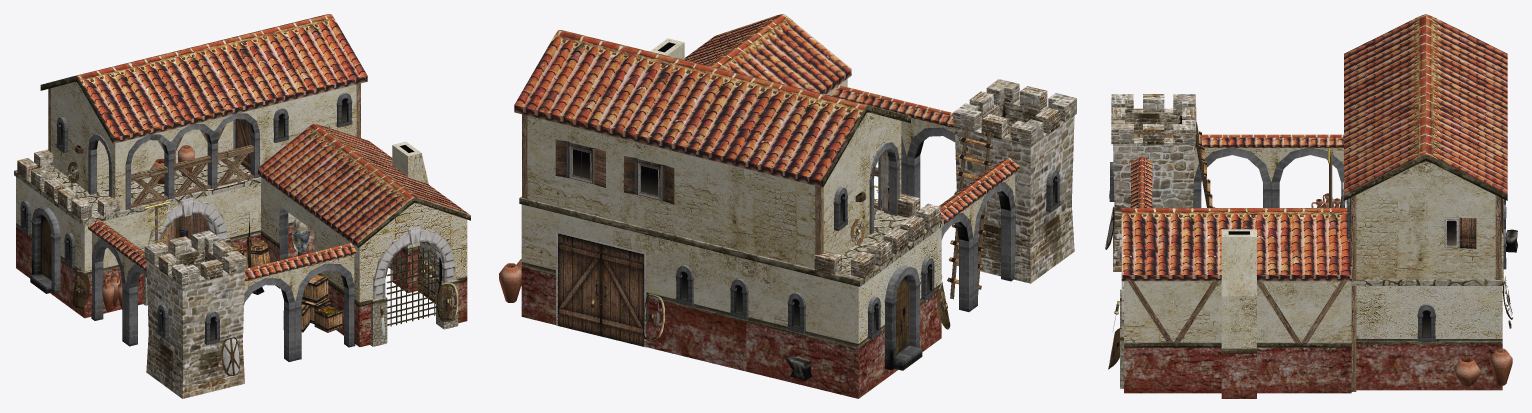
The model's file is rome_barracks.dae.
3 renders of one model, left to right at view 1: azimuth 30°, elevation 25°; view 2: azimuth 150°, elevation 25°; view 3: azimuth 270°, elevation 25°, orthographic. The views are drawn at different scales.
Visible parts, largest first — view 1: RomanBarracks; view 2: RomanBarracks; view 3: RomanBarracks.
Boxes of the visible parts, x1=… form: RomanBarracks: x1=14, y1=14, x2=470, y2=398; RomanBarracks: x1=499, y1=14, x2=1076, y2=398; RomanBarracks: x1=1105, y1=14, x2=1517, y2=398.
Bounding box in the file's own units: 22.85 × 23.3 × 16.2.
Materials: 1 (1 with a texture image).
